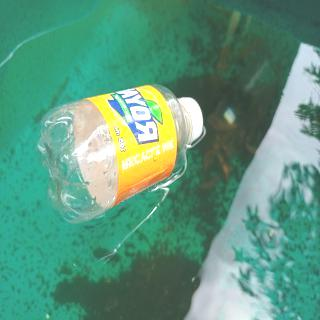bottle: (34, 82, 205, 225)
